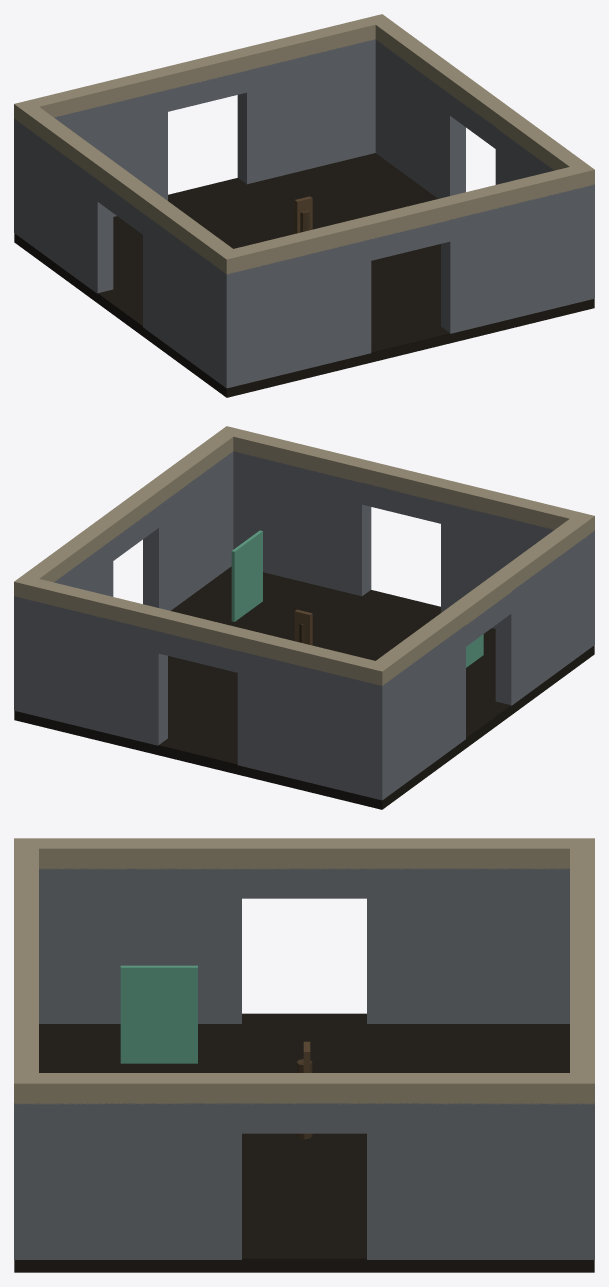
The model's file is ArmouredCourtyard.fbx.
3 views of the same model, one above another, from view 1: azimuth 30°, elevation 25°; view 2: azimuth 150°, elevation 25°; view 3: azimuth 270°, elevation 25° (orthographic). The views are drawn at different scales.
Visible parts, largest first — view 1: ArmouredCourtyard; view 2: ArmouredCourtyard; view 3: ArmouredCourtyard.
Boxes of the visible parts, x1=… form: ArmouredCourtyard: x1=14, y1=14, x2=594, y2=397; ArmouredCourtyard: x1=14, y1=426, x2=594, y2=809; ArmouredCourtyard: x1=14, y1=838, x2=594, y2=1272.
Bounding box in the file's own units: 1202 × 432 × 1202.
6 materials, 6 textured.
